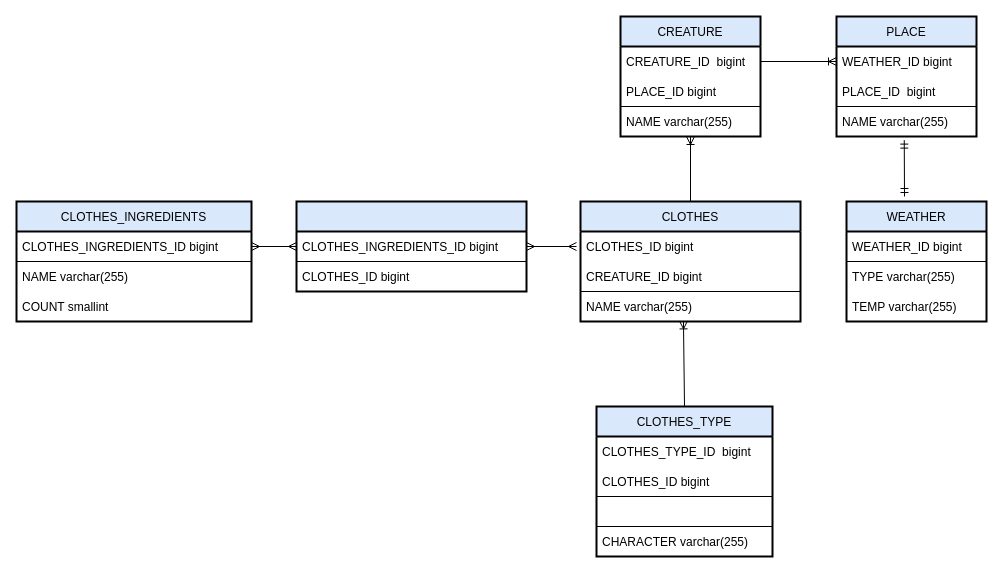
Image size: 1003x573. Some labels were removed from this diagram. The shapes that lost their labels are listed below. From the top down, each one's box as (x1, y1, x2, y2) in pixels, then its label:
(295, 200, 527, 292): CLOTHES_INGREDIENTS_LINK
(596, 496, 772, 526): FORM varchar(255)
